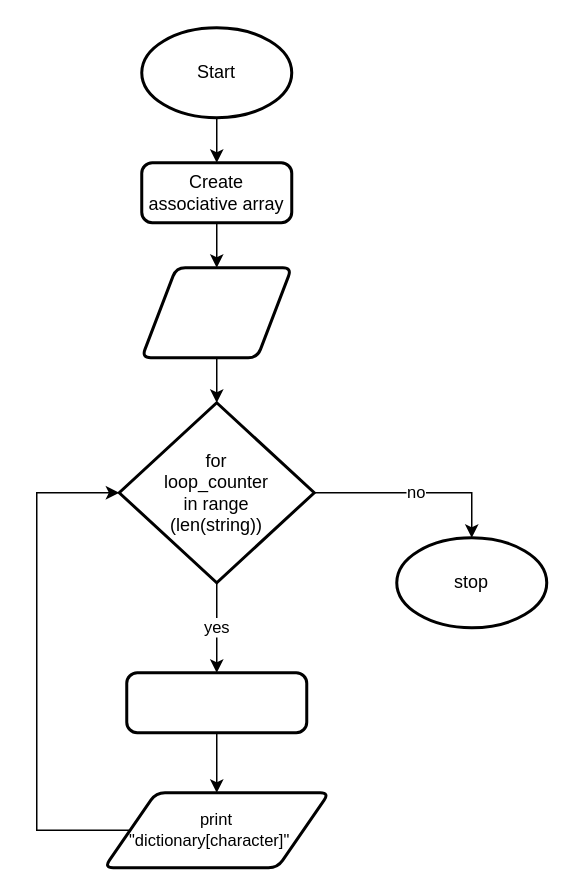
Image size: 575x894. Some labels were removed from this diagram. Here are the shapes that lost their labels. From the top down, the centre of each, then its label:
At point (216, 312): "Get string".
At point (216, 702): "character = string[loop_counter]".
